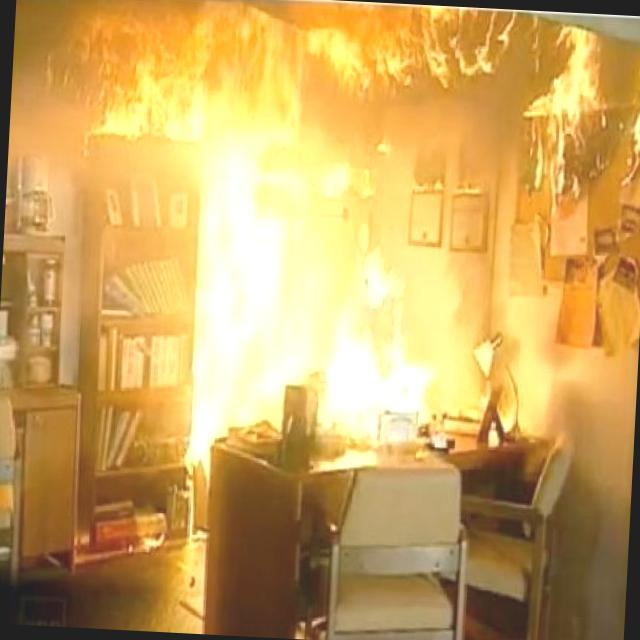fire: (14, 0, 640, 471)
